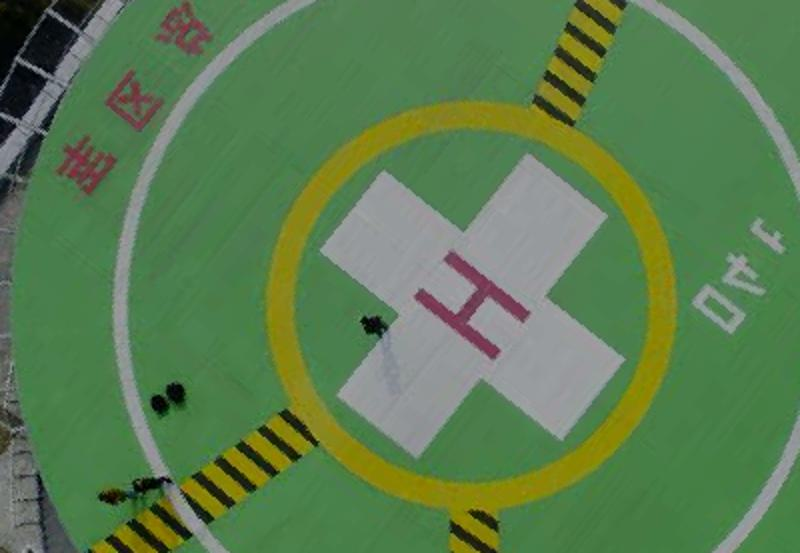Apron: (262, 97, 681, 510)
